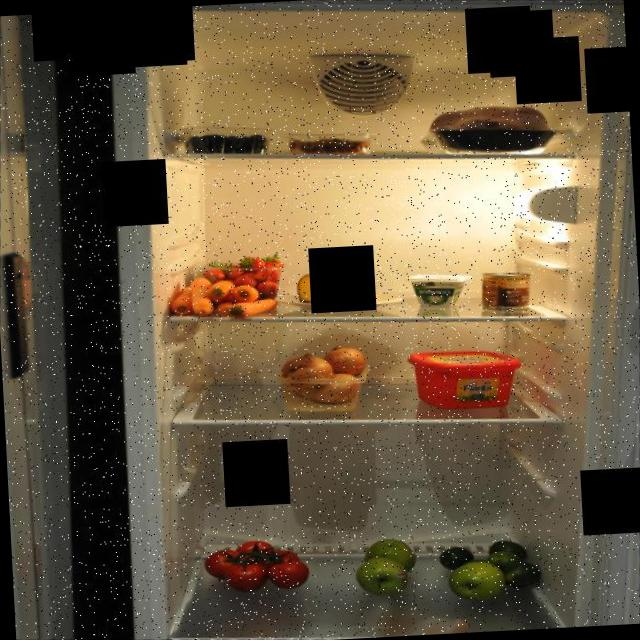Carne pollo: (419, 96, 562, 164)
Cebolla: (280, 340, 370, 411)
Gambas/Langostinos: (280, 131, 373, 163)
Mantequilla: (406, 342, 526, 417)
Manzana: (350, 528, 426, 602), (446, 558, 510, 606)
Queso: (293, 267, 366, 311)
Tomate: (198, 533, 322, 597)
Zanahoria: (160, 274, 281, 326)
